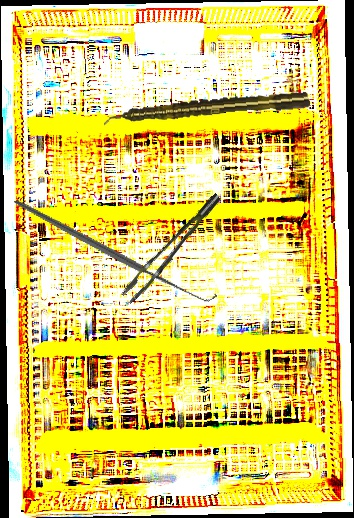Handpiece: (102, 90, 311, 127)
Hook Surgical: (13, 136, 218, 362)
Tissue Forceps: (112, 192, 234, 305)
